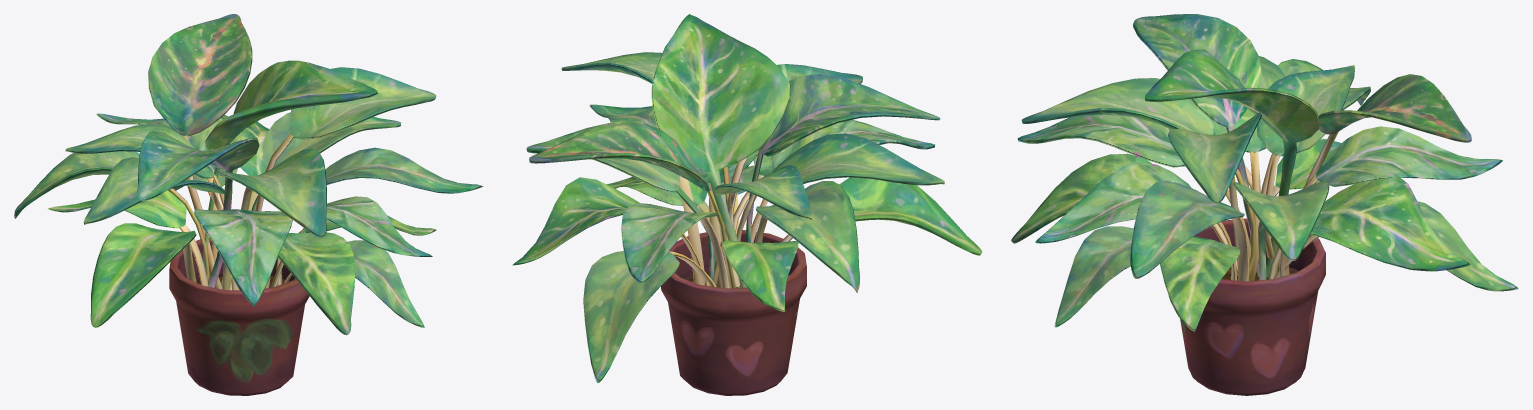
The model's file is Aglaonema.fbx.
3 renders of one model, left to right at view 1: azimuth 30°, elevation 25°; view 2: azimuth 150°, elevation 25°; view 3: azimuth 270°, elevation 25°, orthographic. The views are drawn at different scales.
Visible parts, largest first — view 1: Aglaonema; view 2: Aglaonema; view 3: Aglaonema.
Part boxes in pixels (x1=…): Aglaonema: x1=14, y1=14, x2=483, y2=395; Aglaonema: x1=512, y1=14, x2=982, y2=395; Aglaonema: x1=1011, y1=14, x2=1518, y2=395.
Bounding box in the file's own units: 7.27 × 5.33 × 7.58.
